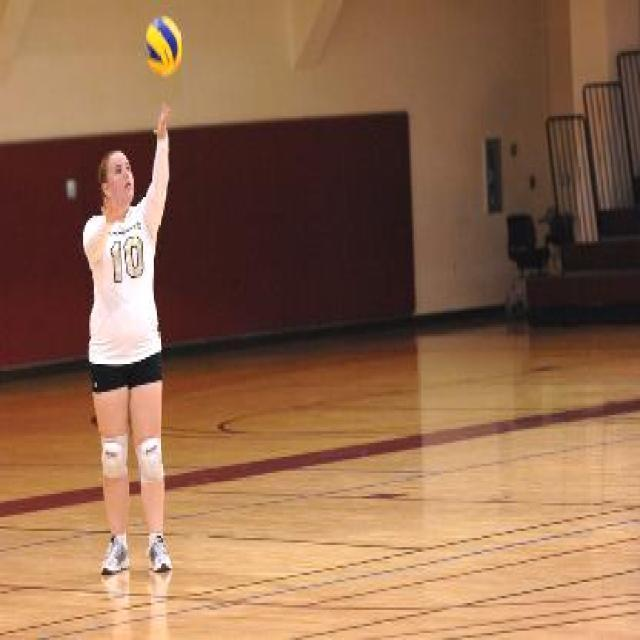volleyball: (144, 15, 182, 75)
